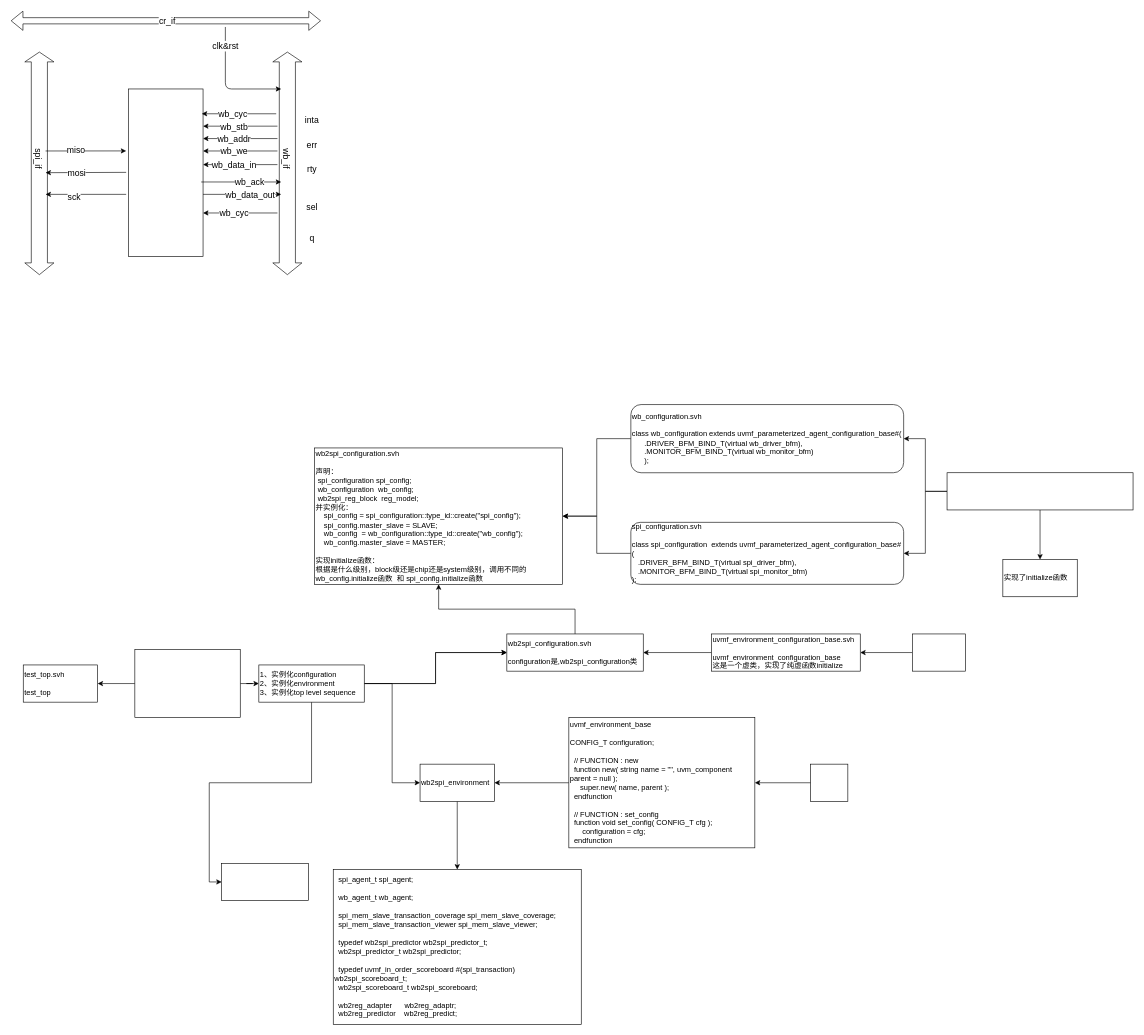
The diagram is 1144 pixels wide and 1035 high, and some of its shapes have lost their labels. Here are the shapes that lost their labels. From the top down, the centre of each, then its label:
At point (165, 172): "DUT wb2spi.v".
At point (1039, 491): "uvmf_parameterized_agent_configuration_base.svh".
At point (939, 652): "uvm_object".
At point (187, 683): "uvmf_test_base.svh uvmf_test_base是一个参数化类，参数是configuration、environment、sequence".
At point (829, 782): "uvm_env".
At point (264, 882): "wb2spi_sequence_base".
